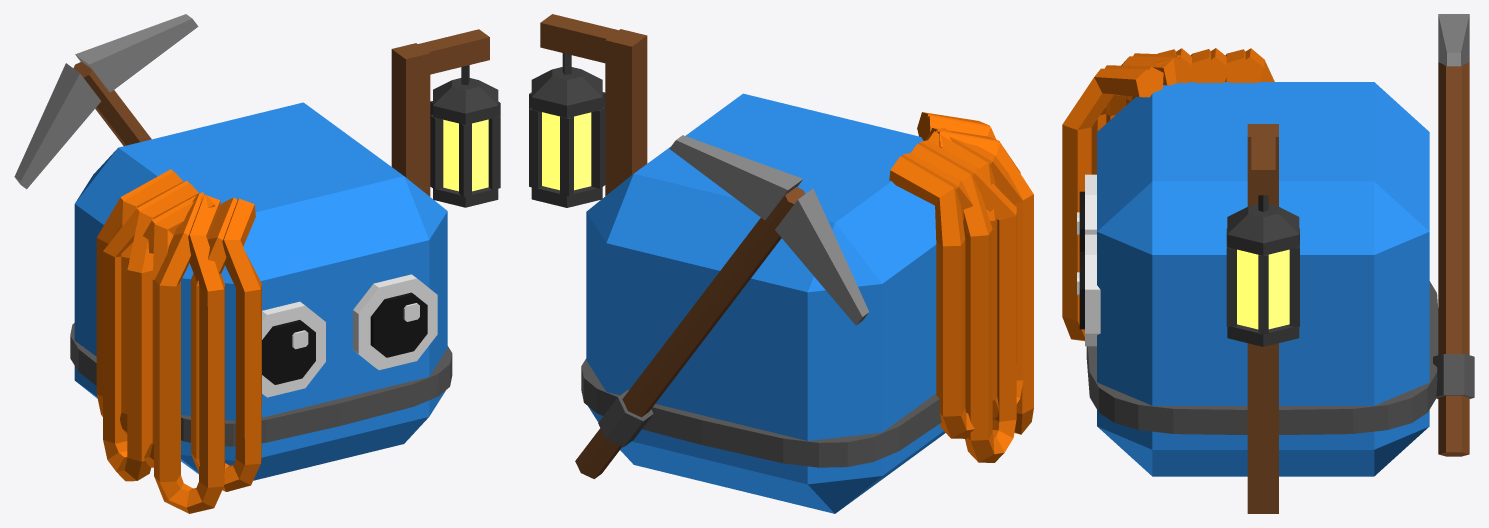
The model's file is Climby.fbx.
The picture shows the model from 3 angles, left to right: view 1: azimuth 30°, elevation 25°; view 2: azimuth 150°, elevation 25°; view 3: azimuth 270°, elevation 25°; orthographic projection. The views are drawn at different scales.
Visible parts, largest first — view 1: Climby, Climby_Rope, Climby_Wood, Climby_PickHead, Climby_Strap, Climby_Lantern, Climby_Eyes, Climby_Pupils, Climby_Glass; view 2: Climby, Climby_Rope, Climby_Wood, Climby_Strap, Climby_PickHead, Climby_Lantern, Climby_Glass; view 3: Climby, Climby_Wood, Climby_Strap, Climby_Rope, Climby_Lantern, Climby_Glass, Climby_Eyes, Climby_PickHead, Climby_Pupils.
Part boxes in pixels (box(x1,y1,x2,y2)): Climby: box(74, 102, 447, 480); Climby_Rope: box(96, 169, 261, 513); Climby_Wood: box(73, 29, 489, 196); Climby_PickHead: box(14, 14, 198, 189); Climby_Strap: box(70, 323, 452, 446); Climby_Lantern: box(430, 65, 500, 207); Climby_Eyes: box(262, 274, 437, 397); Climby_Pupils: box(262, 292, 427, 384); Climby_Glass: box(443, 119, 488, 191); Climby: box(586, 93, 945, 513); Climby_Rope: box(889, 112, 1033, 462); Climby_Wood: box(540, 14, 804, 478); Climby_Strap: box(581, 358, 941, 467); Climby_PickHead: box(669, 135, 868, 325); Climby_Lantern: box(529, 53, 605, 207); Climby_Glass: box(542, 112, 591, 190); Climby: box(1097, 82, 1429, 476); Climby_Wood: box(1247, 62, 1469, 513); Climby_Strap: box(1086, 281, 1474, 434); Climby_Rope: box(1062, 48, 1274, 341); Climby_Lantern: box(1226, 195, 1299, 346); Climby_Glass: box(1237, 249, 1289, 329); Climby_Eyes: box(1077, 174, 1100, 346); Climby_PickHead: box(1438, 14, 1469, 66); Climby_Pupils: box(1079, 191, 1084, 329).
Size of the model in its own units: 3 by 2.43 by 2.38.
